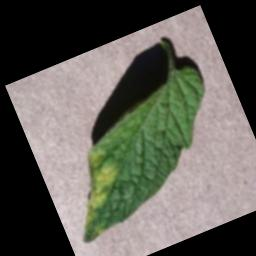Leaf_Mold: (51, 140, 141, 244)
